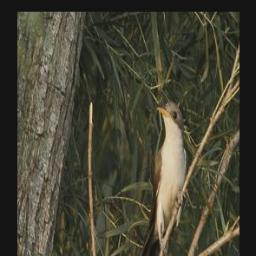Cuckoo: (121, 99, 189, 256)
